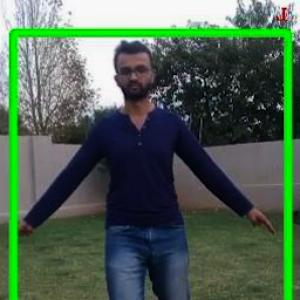land: (1, 36, 293, 299)
